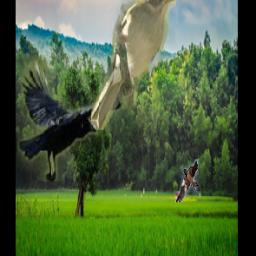Crow: (17, 56, 132, 183)
Sparrow: (91, 0, 176, 130)
Swallow: (175, 160, 202, 203)
